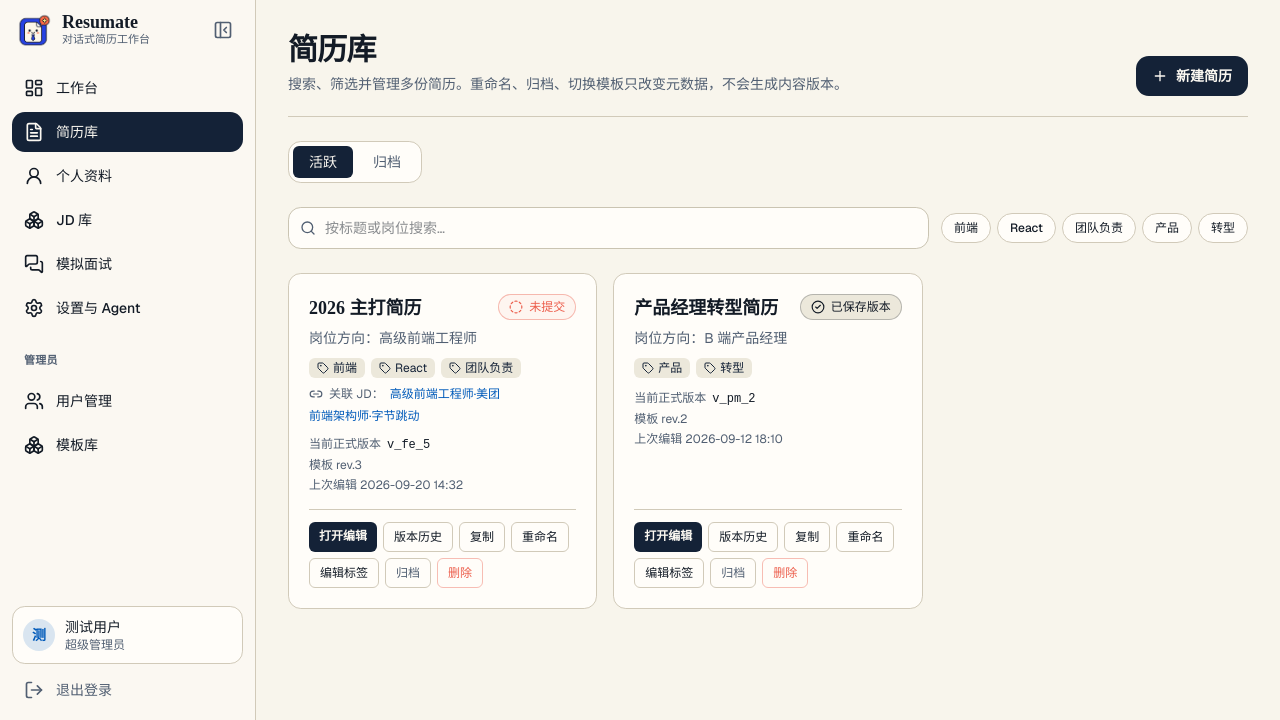
Test: 简历库卡片：重命名入口 › 重命名弹窗可以取消，不发出 PATCH
The width and height of the screenshot is (1280, 720).
Click the button "重命名" below "产品经理转型简历". click: (865, 537)
box: [836, 522, 894, 552]
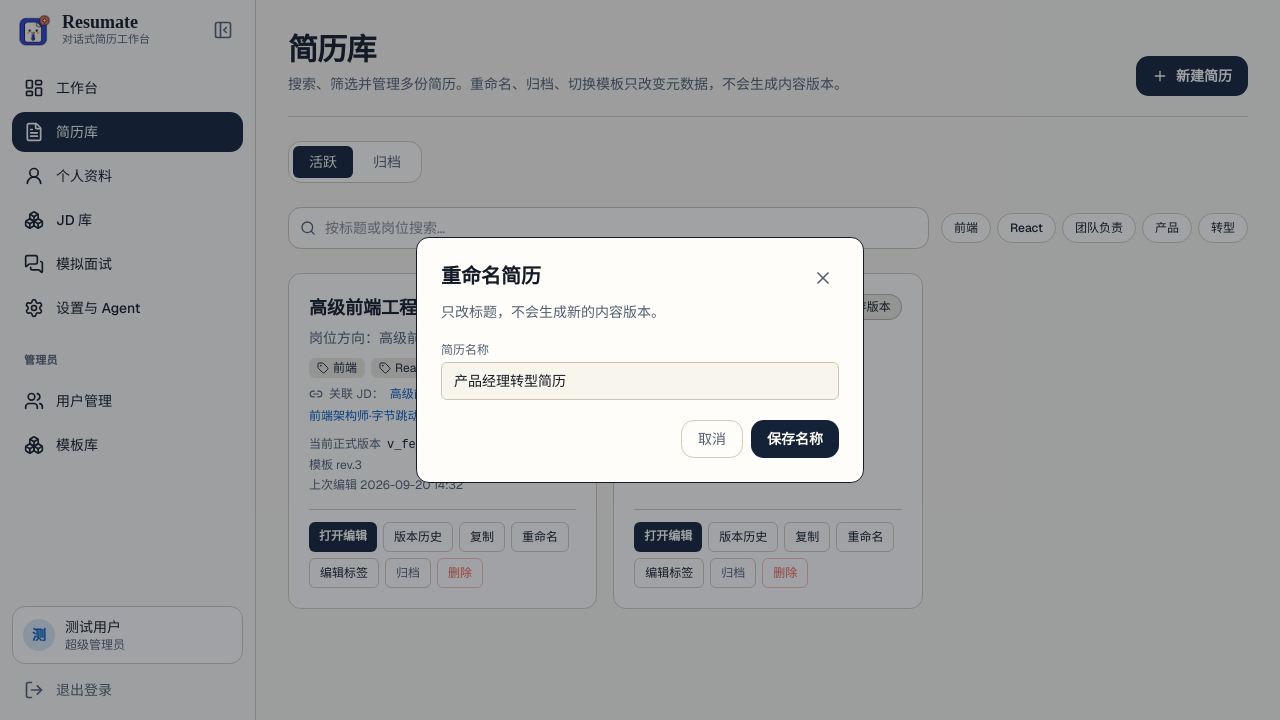
Replace the text in the field labelled "简历名称" with "不该保存". click: (640, 381)
box: [441, 362, 839, 400]
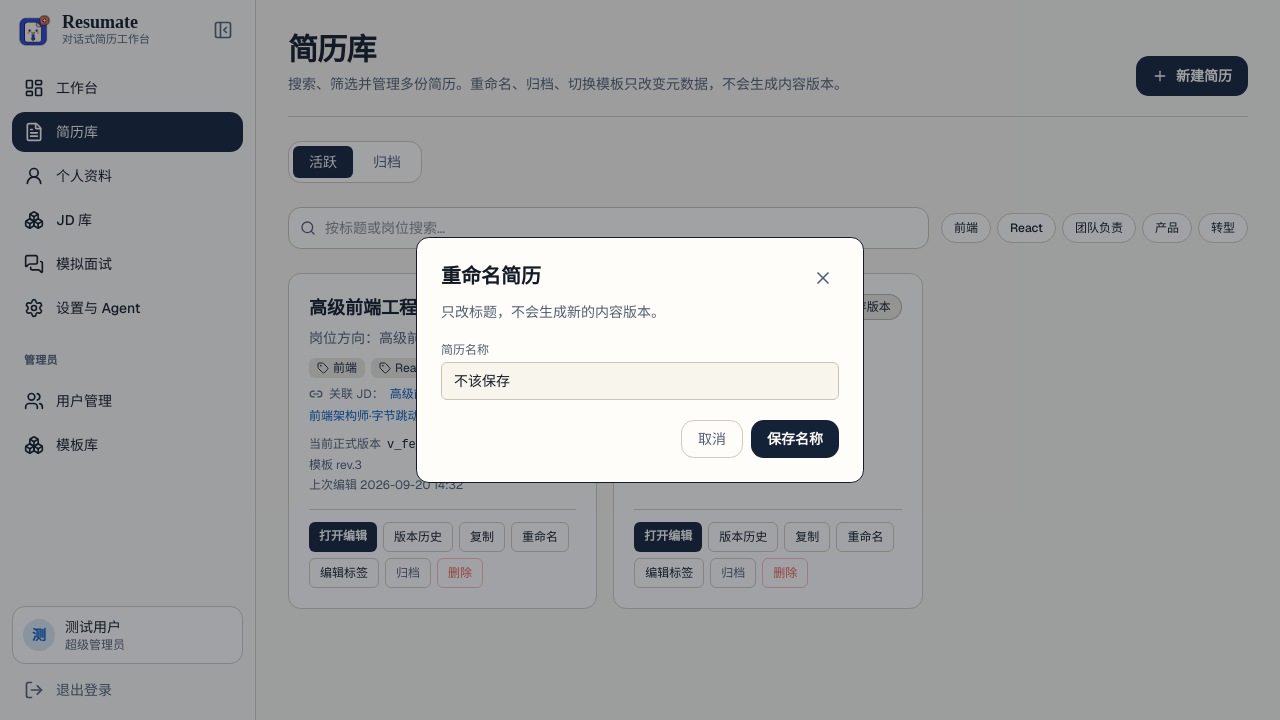
Click the button "取消". click: (712, 439)
box: [681, 420, 743, 458]
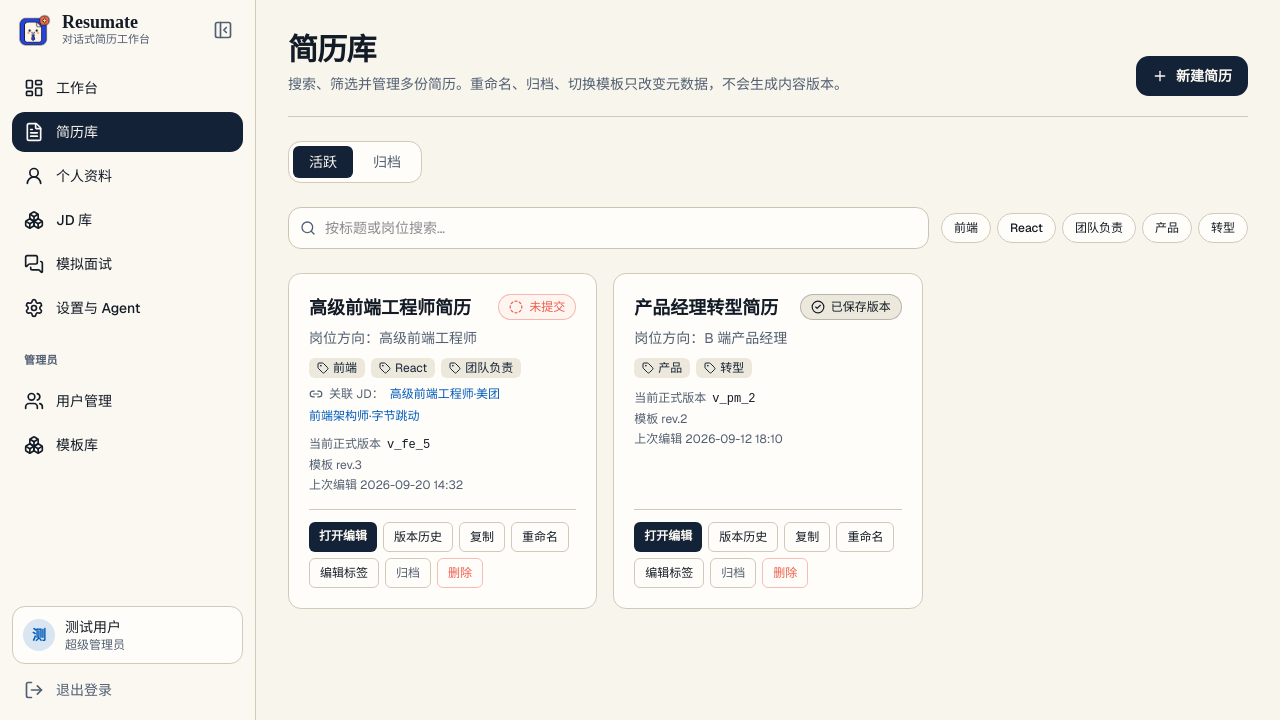
Now the heading "重命名简历" is gone
